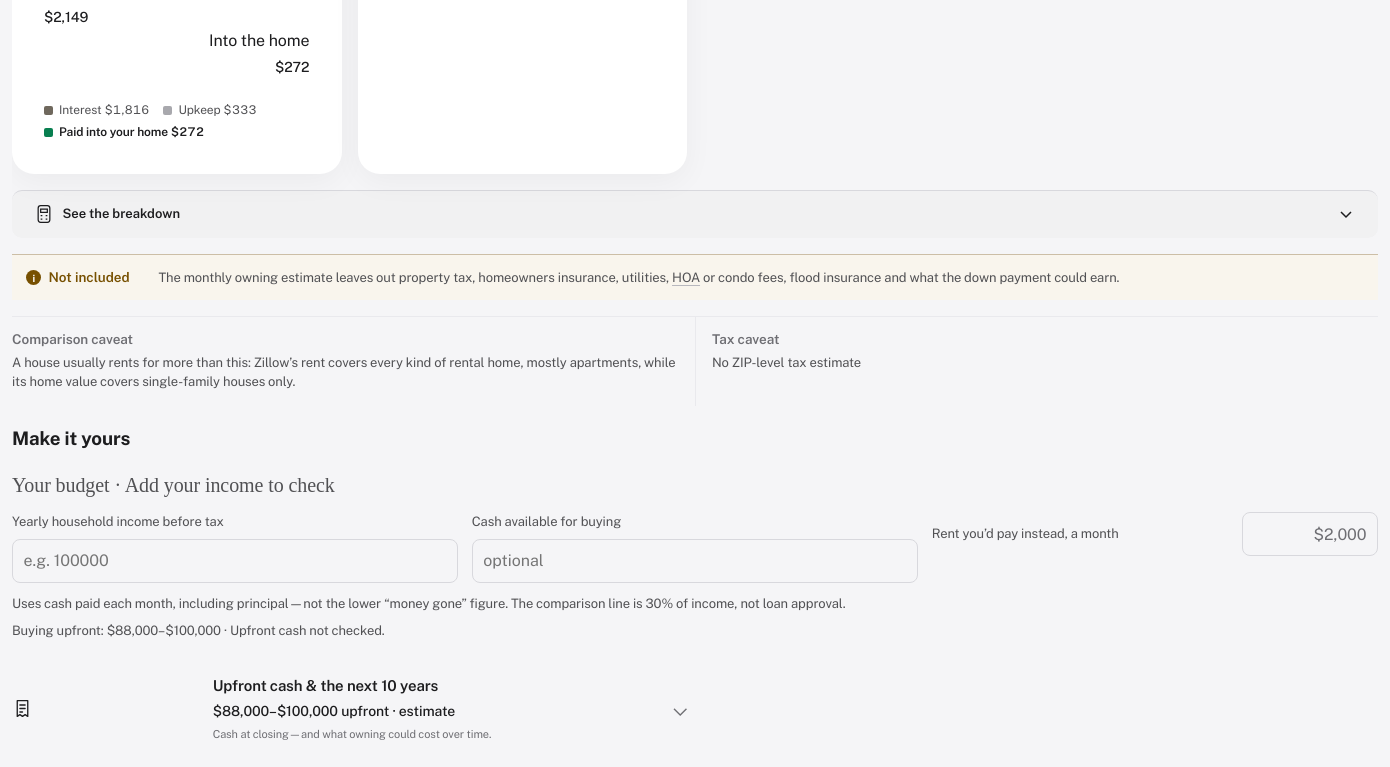
Test: local monthly budget › works without a cross-place ID and preserves incomplete-cost caveats
(page scrolled)
Expected: the element named "Your budget fit" shows "Add your income to check", [110, 474, 335, 496]
Type "100000" into the field labelled "Yearly household income before tax".
click(235, 561); type("100000")  # box [12, 539, 458, 583]
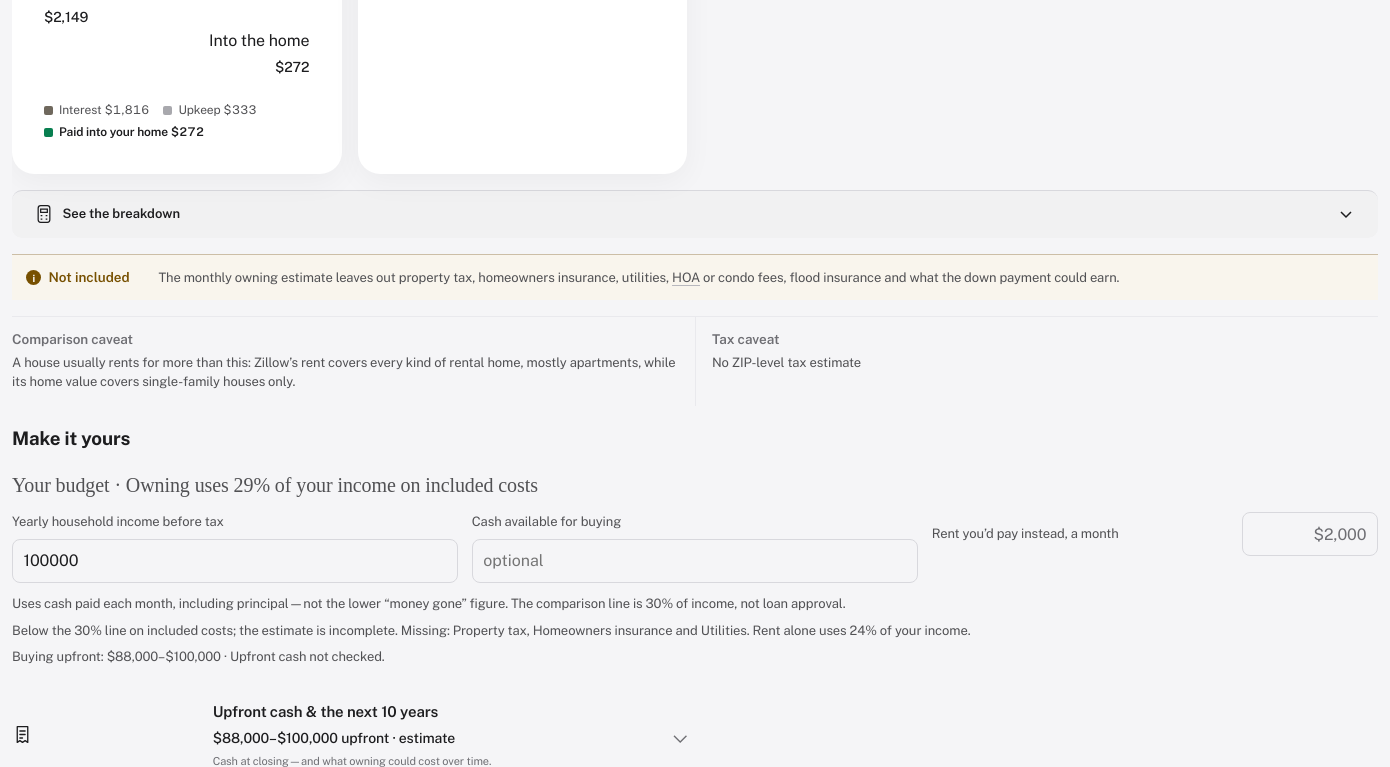
Now the element named "Your budget fit" shows "Missing:", box [398, 623, 749, 638]
Now the element named "Your budget fit" shows "Rent alone uses 24%", box [750, 623, 970, 638]
